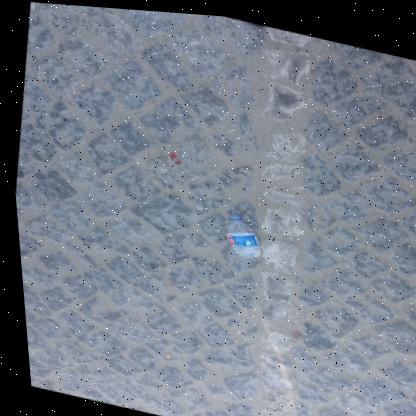Plastic: (221, 211, 258, 254), (221, 229, 255, 243)
Waste: (159, 351, 165, 357), (30, 2, 34, 9)
